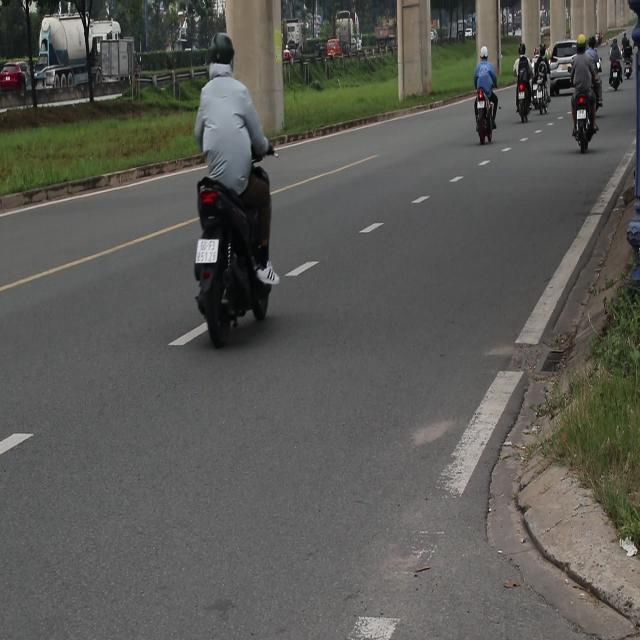car: (551, 42, 577, 94), (1, 64, 28, 94)
motorbike: (193, 182, 274, 347), (570, 96, 608, 164), (466, 94, 500, 153), (538, 75, 552, 119), (514, 88, 528, 127), (610, 60, 623, 89)
truck: (35, 7, 132, 104), (327, 8, 376, 68)
